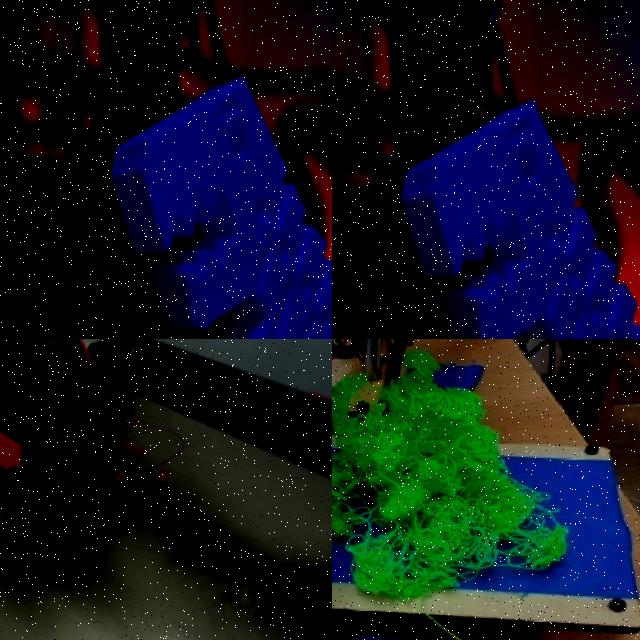spaghetti: (332, 347, 569, 600), (107, 434, 145, 457), (114, 471, 127, 485), (158, 472, 167, 486)
